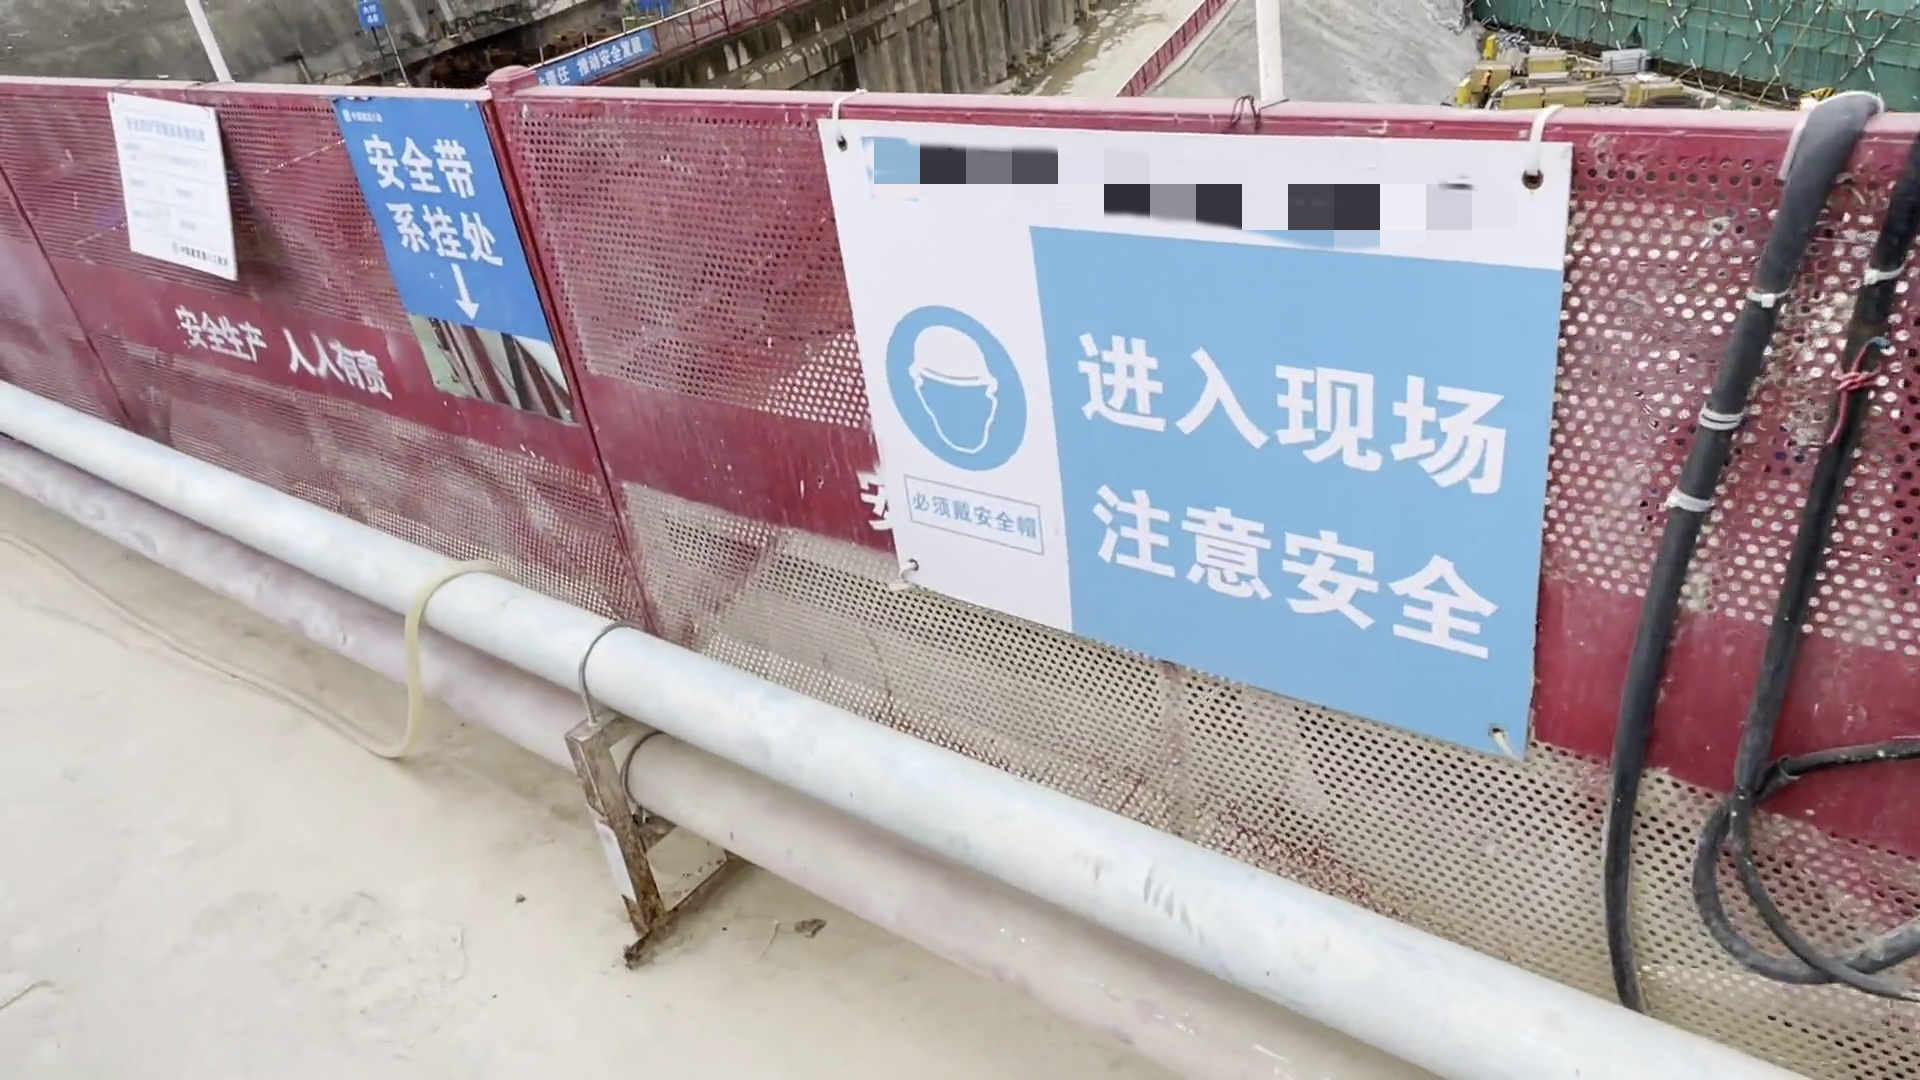fence: (7, 76, 878, 712)
slogan: (814, 119, 1578, 778), (328, 100, 559, 345), (541, 32, 655, 84)
